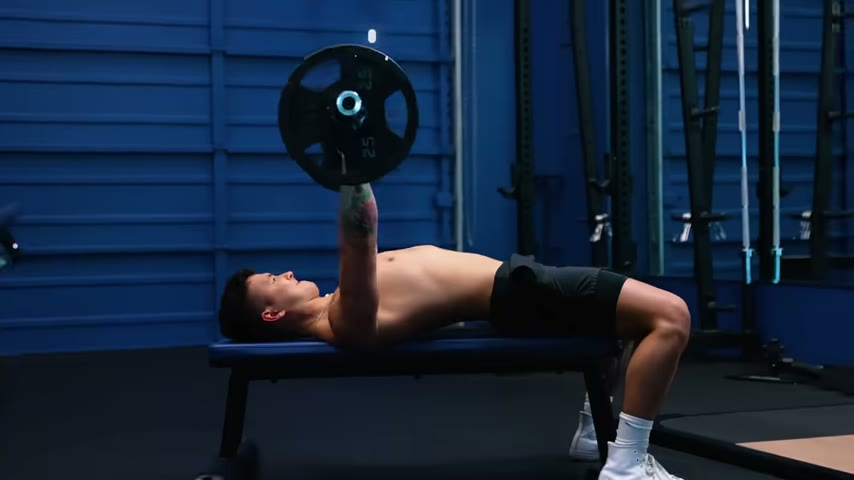barbell_plate_side: (275, 35, 327, 195), (373, 35, 419, 192)
